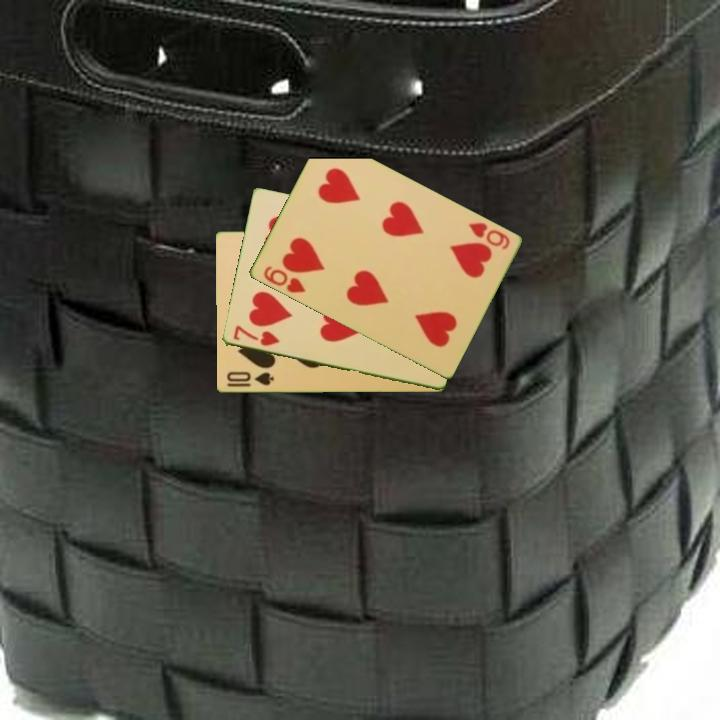10s: (223, 368, 276, 389)
6h: (259, 262, 308, 296), (464, 219, 512, 253)
7h: (229, 322, 282, 349)
